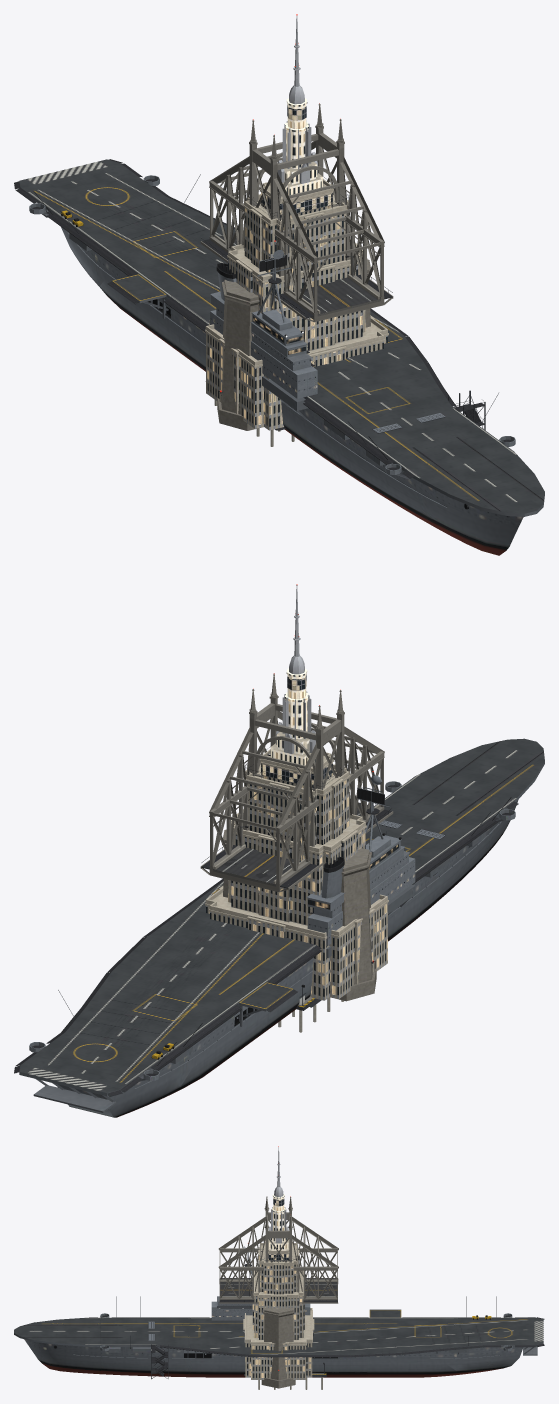
File: landmarks2.glb
3 views of the same model, one above another, from view 1: azimuth 30°, elevation 25°; view 2: azimuth 150°, elevation 25°; view 3: azimuth 270°, elevation 25° (orthographic). The views are drawn at different scales.
Parts seen in each view (by area): view 1: carrier, spire_top, bridge_tower, bridge_truss; view 2: carrier, spire_top, bridge_tower, bridge_truss; view 3: carrier, spire_top, bridge_tower, bridge_truss.
Boxes of the visible parts, box(x1,y1,x2,y2) form: carrier: box(14, 159, 544, 555); spire_top: box(205, 14, 388, 430); bridge_tower: box(201, 103, 392, 430); bridge_truss: box(200, 169, 393, 322); carrier: box(14, 738, 544, 1117); spire_top: box(205, 584, 388, 1000); bridge_tower: box(201, 673, 391, 1001); bridge_truss: box(200, 740, 393, 892); carrier: box(14, 1243, 544, 1379); spire_top: box(243, 1146, 314, 1379); bridge_tower: box(218, 1196, 338, 1388); bridge_truss: box(219, 1248, 338, 1303).
Bounding box in the file's own units: 57.1 × 129 × 269.
Materials: 7 (7 with a texture image).
